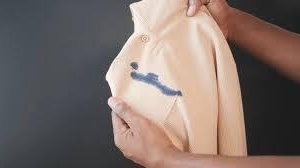ink: (130, 73, 158, 85), (160, 85, 180, 98), (130, 63, 138, 70)
